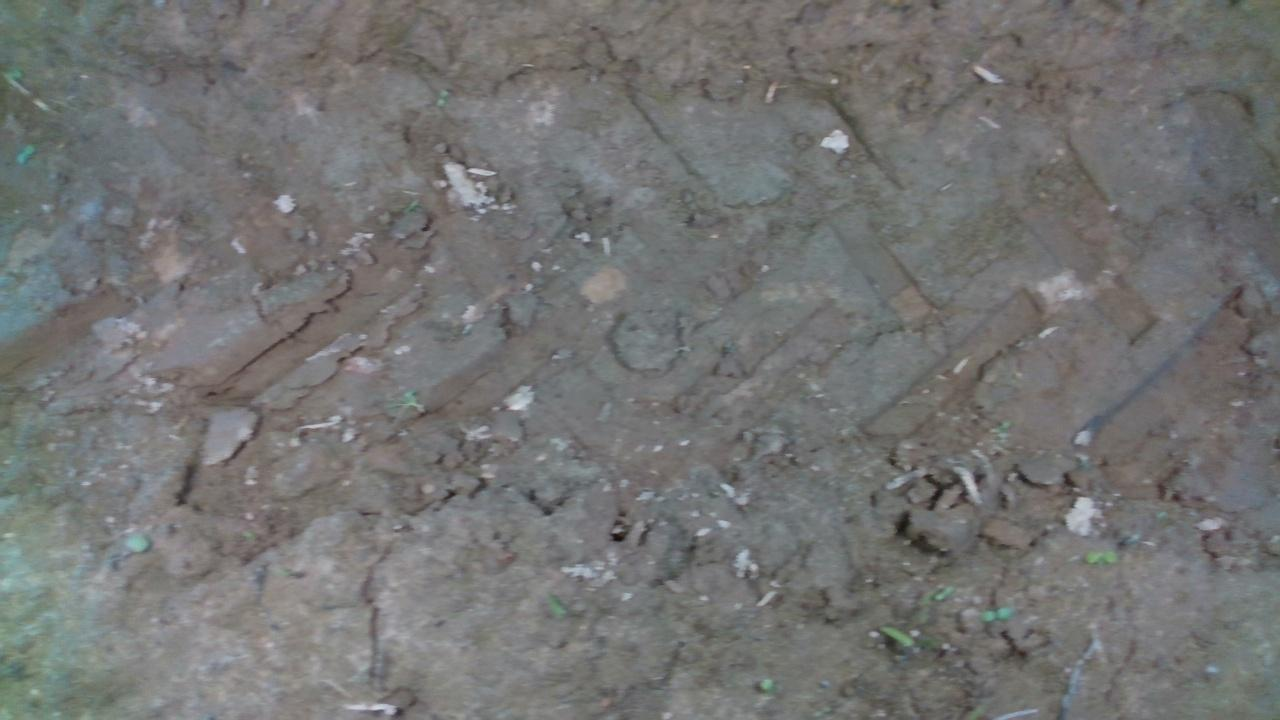weed: (977, 604, 1014, 621), (1080, 548, 1118, 564)
